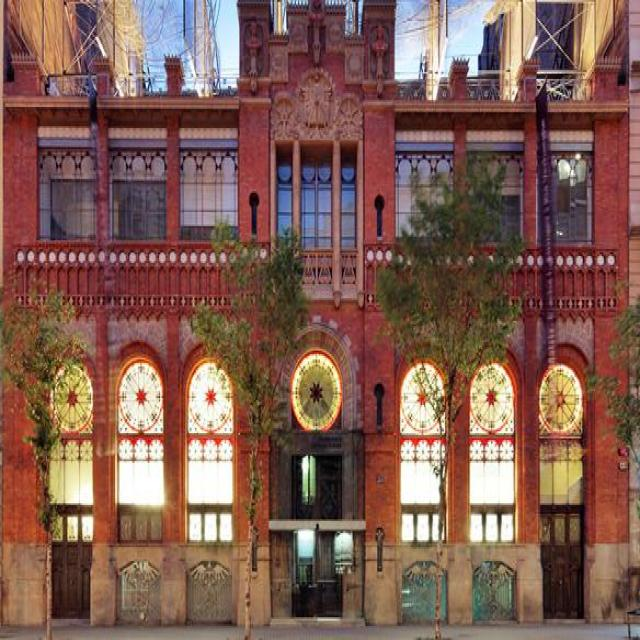door: (50, 511, 93, 621), (540, 509, 585, 613), (295, 530, 333, 610)
window: (185, 362, 231, 509), (470, 362, 516, 509), (278, 160, 358, 244), (401, 365, 447, 511), (48, 357, 93, 504), (120, 361, 165, 508), (540, 370, 584, 499), (40, 142, 94, 235), (109, 145, 163, 238), (465, 150, 519, 243), (181, 148, 235, 240), (396, 148, 450, 240), (537, 153, 591, 245), (290, 350, 343, 434)
